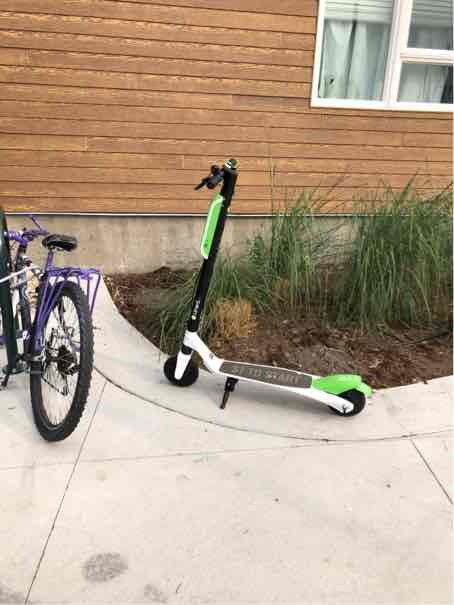scooter: (154, 140, 394, 420)
